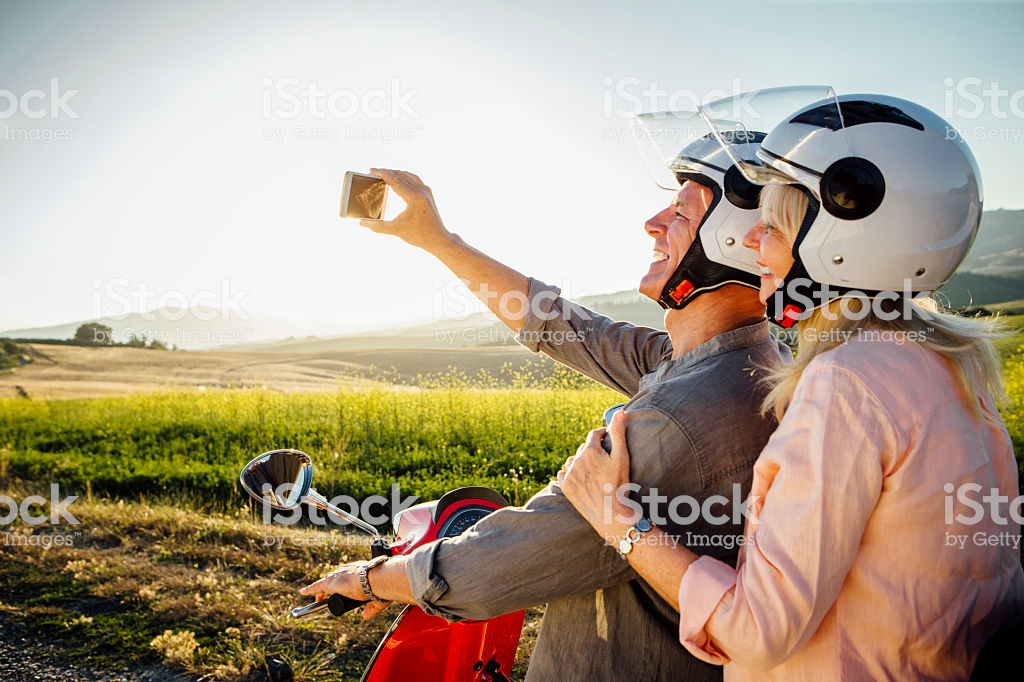helmet: (751, 73, 982, 315), (655, 102, 771, 286)
